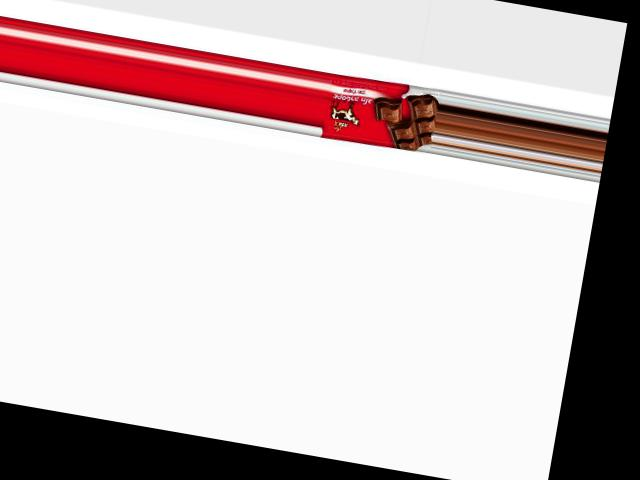chocolate: (319, 72, 439, 155)
